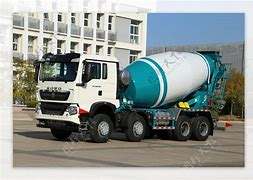specialcar: (29, 38, 225, 150)
